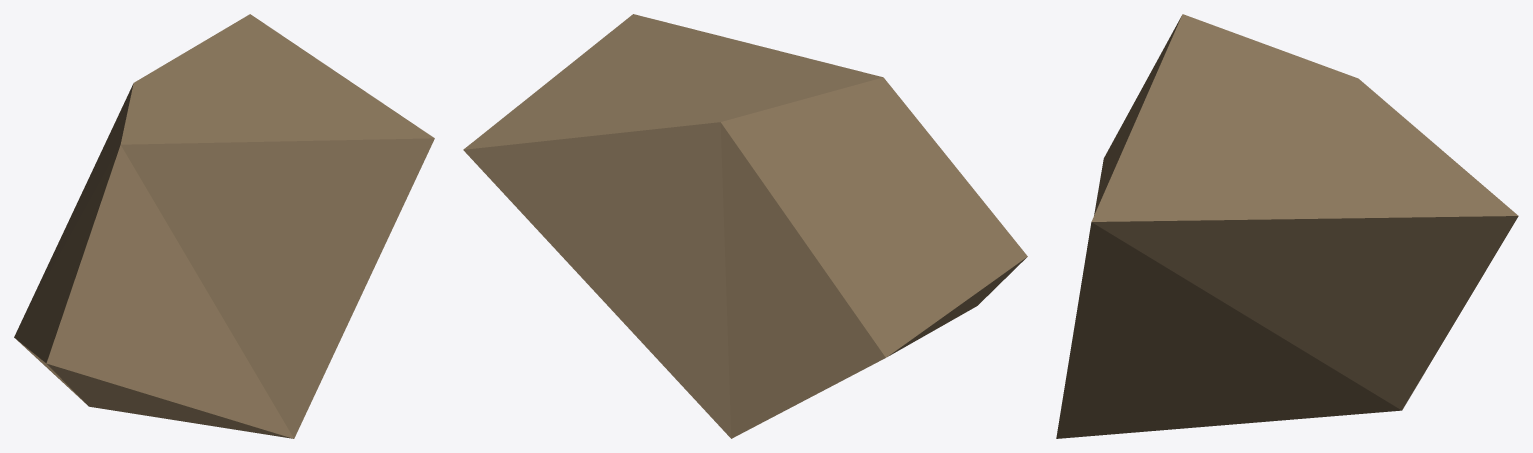
File: Rock08.fbx
3 renders of one model, left to right at view 1: azimuth 30°, elevation 25°; view 2: azimuth 150°, elevation 25°; view 3: azimuth 270°, elevation 25°, orthographic. The views are drawn at different scales.
Parts seen in each view (by area): view 1: Rock08; view 2: Rock08; view 3: Rock08.
Boxes of the visible parts, <box> form: Rock08: <box>14,14,434,438</box>; Rock08: <box>463,14,1027,438</box>; Rock08: <box>1056,14,1518,438</box>.
Size of the model in its own units: 8.91 by 6.56 by 7.58.
